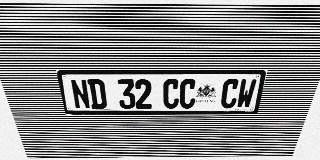2: (135, 79, 152, 109)
3: (117, 79, 136, 109)
C: (220, 79, 240, 108), (179, 79, 197, 109), (163, 79, 180, 109)
D: (87, 79, 107, 109)
N: (70, 79, 91, 109)
W: (236, 79, 257, 108)
